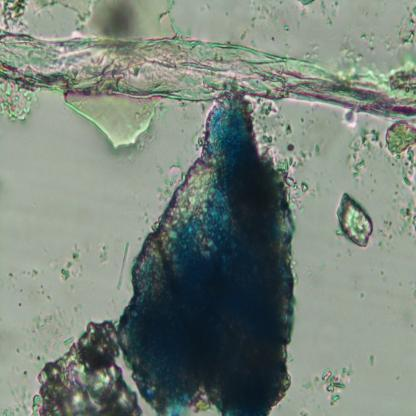Background material: (22, 318, 140, 416), (64, 90, 160, 151), (0, 0, 93, 37), (254, 97, 296, 153), (336, 32, 382, 78), (337, 193, 373, 250), (304, 364, 352, 405), (387, 121, 416, 188), (381, 194, 416, 244), (98, 2, 142, 40), (283, 139, 307, 208), (0, 81, 40, 121), (349, 128, 379, 178), (151, 1, 182, 40), (240, 0, 272, 36), (392, 7, 416, 48), (117, 242, 130, 294), (62, 249, 82, 278), (319, 2, 341, 27), (298, 0, 316, 10), (310, 142, 321, 157), (367, 352, 377, 366), (282, 22, 291, 33), (30, 265, 39, 276), (6, 271, 15, 278)
Cellulose filter fibre: (0, 30, 416, 120)
Fragment: (116, 94, 293, 414)
